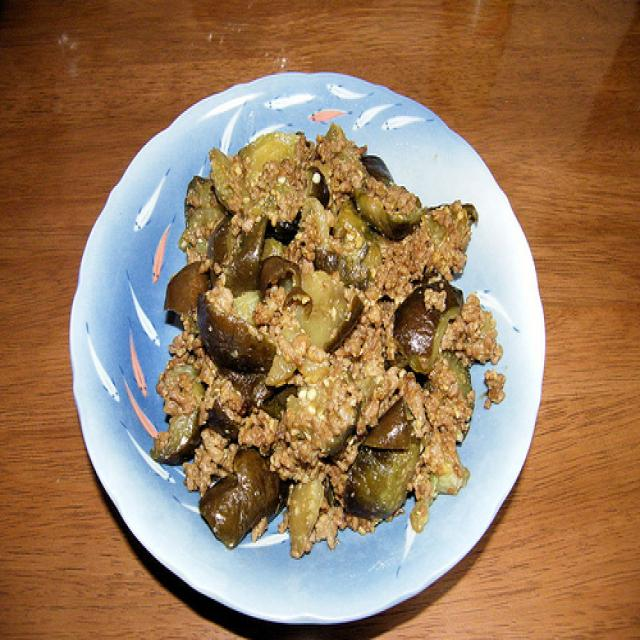鸡蛋料理: (100, 113, 518, 563)
